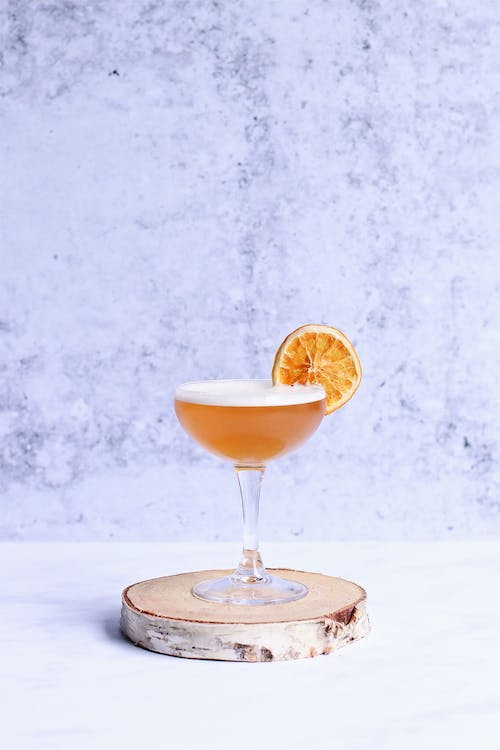alcohol: (174, 378, 327, 607)
